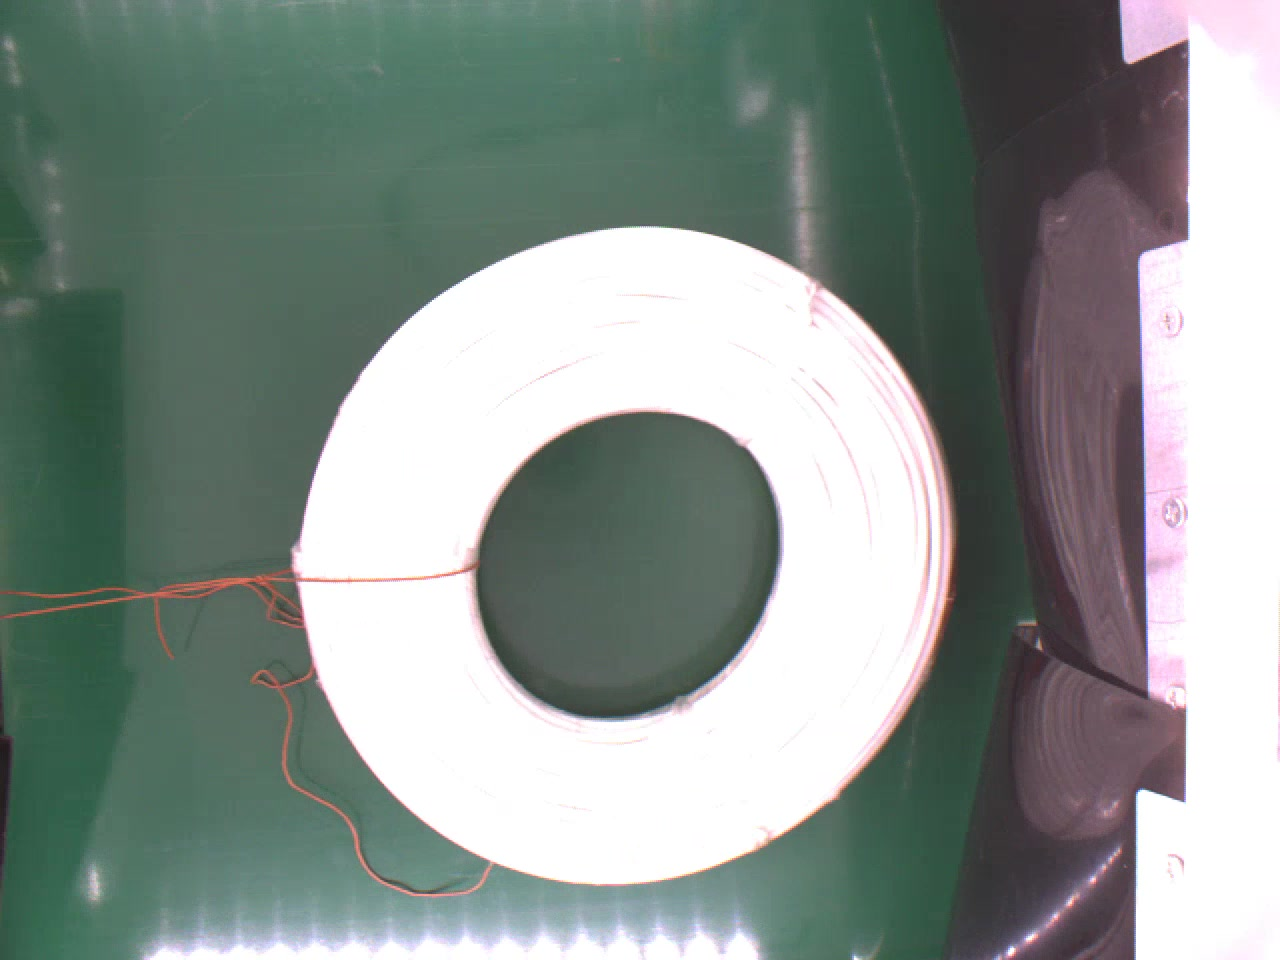white: (288, 219, 957, 891)
